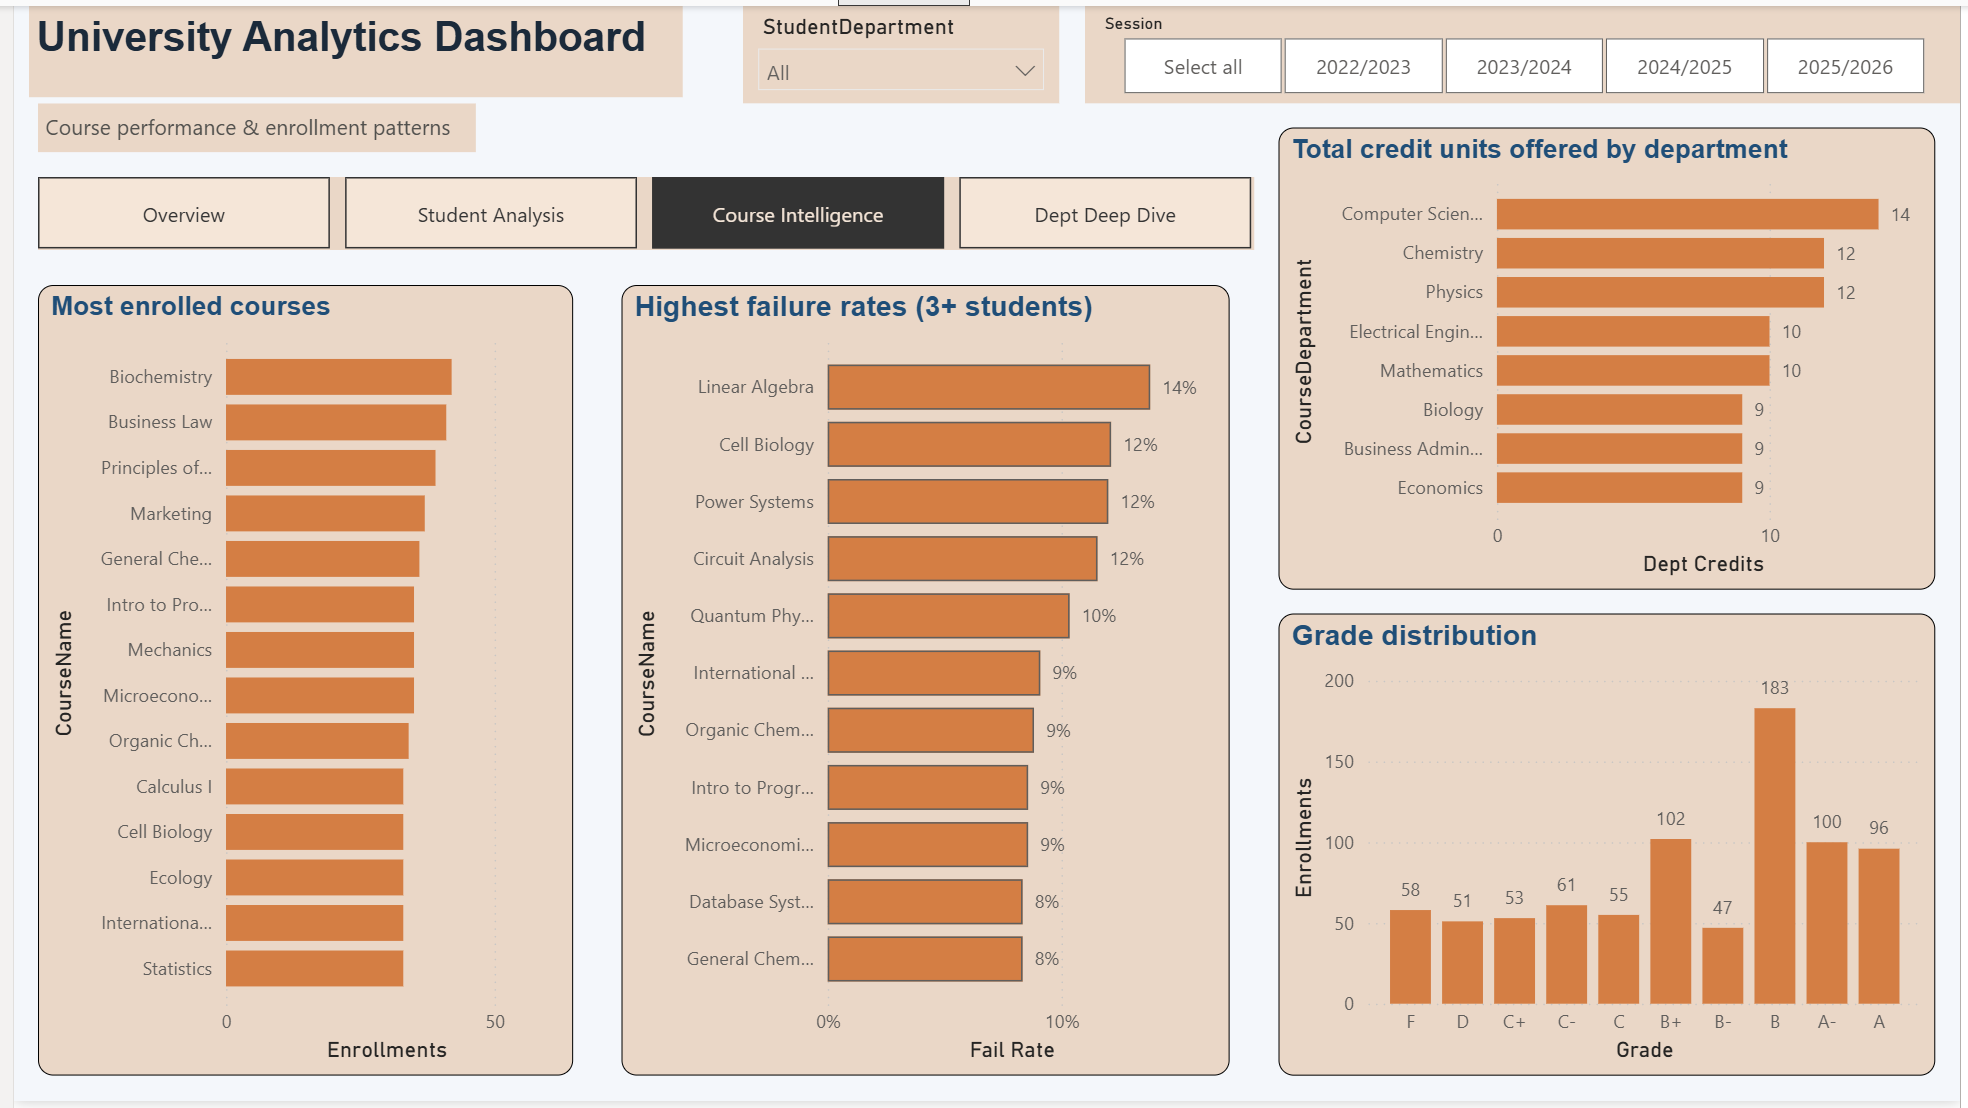

What the dashboard file says about the page in this screenshot:
{"tool":"powerbi","page":{"name":"Course Intelligence","canvas":[1280,720],"ordinal":2},"visuals":[{"type":"textbox","box":[10,0,430,60],"z":0},{"type":"textbox","box":[16,64,288,32],"z":1000},{"type":"pageNavigator","box":[16,112,800,48],"z":2000},{"type":"slicer","fields":{"Values":["University_Data.StudentDepartment"]},"box":[480,0,208,64],"z":3000},{"type":"slicer","fields":{"Values":["University_Data.Session"]},"box":[704,0,576,64],"z":4000},{"type":"clusteredBarChart","title":"Most enrolled courses","fields":{"Category":["University_Data.CourseName"],"Y":["University_Data.Enrollments"]},"box":[16,184,352,520],"z":5000},{"type":"clusteredBarChart","title":"Highest failure rates (3+ students)","fields":{"Category":["University_Data.CourseName"],"Y":["University_Data.Fail Rate"]},"box":[400,184,400,520],"z":6000},{"type":"clusteredColumnChart","title":"Grade distribution","fields":{"Category":["University_Data.Grade"],"Y":["University_Data.Enrollments"]},"box":[832,400,432,304],"z":7000},{"type":"clusteredBarChart","title":"Total credit units offered by department","fields":{"Category":["University_Data.CourseDepartment"],"Y":["University_Data.Dept Credits"]},"box":[832,80,432,304],"z":8000}]}

Visuals, with their boxes in screenshot pixels (x1, y1, x2, y2), scaled from the page's 1280x720 canvas onto the 1968x1108 screenshot:
textbox: detection(15, 0, 676, 92)
textbox: detection(25, 98, 467, 148)
pageNavigator: detection(25, 172, 1255, 246)
slicer - University_Data.StudentDepartment: detection(738, 0, 1058, 98)
slicer - University_Data.Session: detection(1082, 0, 1967, 98)
"Most enrolled courses" clusteredBarChart: detection(25, 283, 566, 1083)
"Highest failure rates (3+ students)" clusteredBarChart: detection(615, 283, 1230, 1083)
"Grade distribution" clusteredColumnChart: detection(1279, 616, 1943, 1083)
"Total credit units offered by department" clusteredBarChart: detection(1279, 123, 1943, 591)
